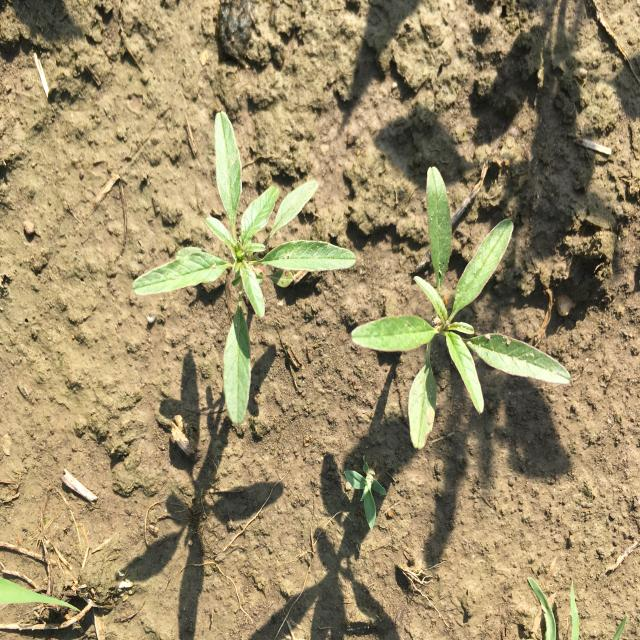Waterhemp: (130, 110, 358, 428), (349, 165, 572, 452)
